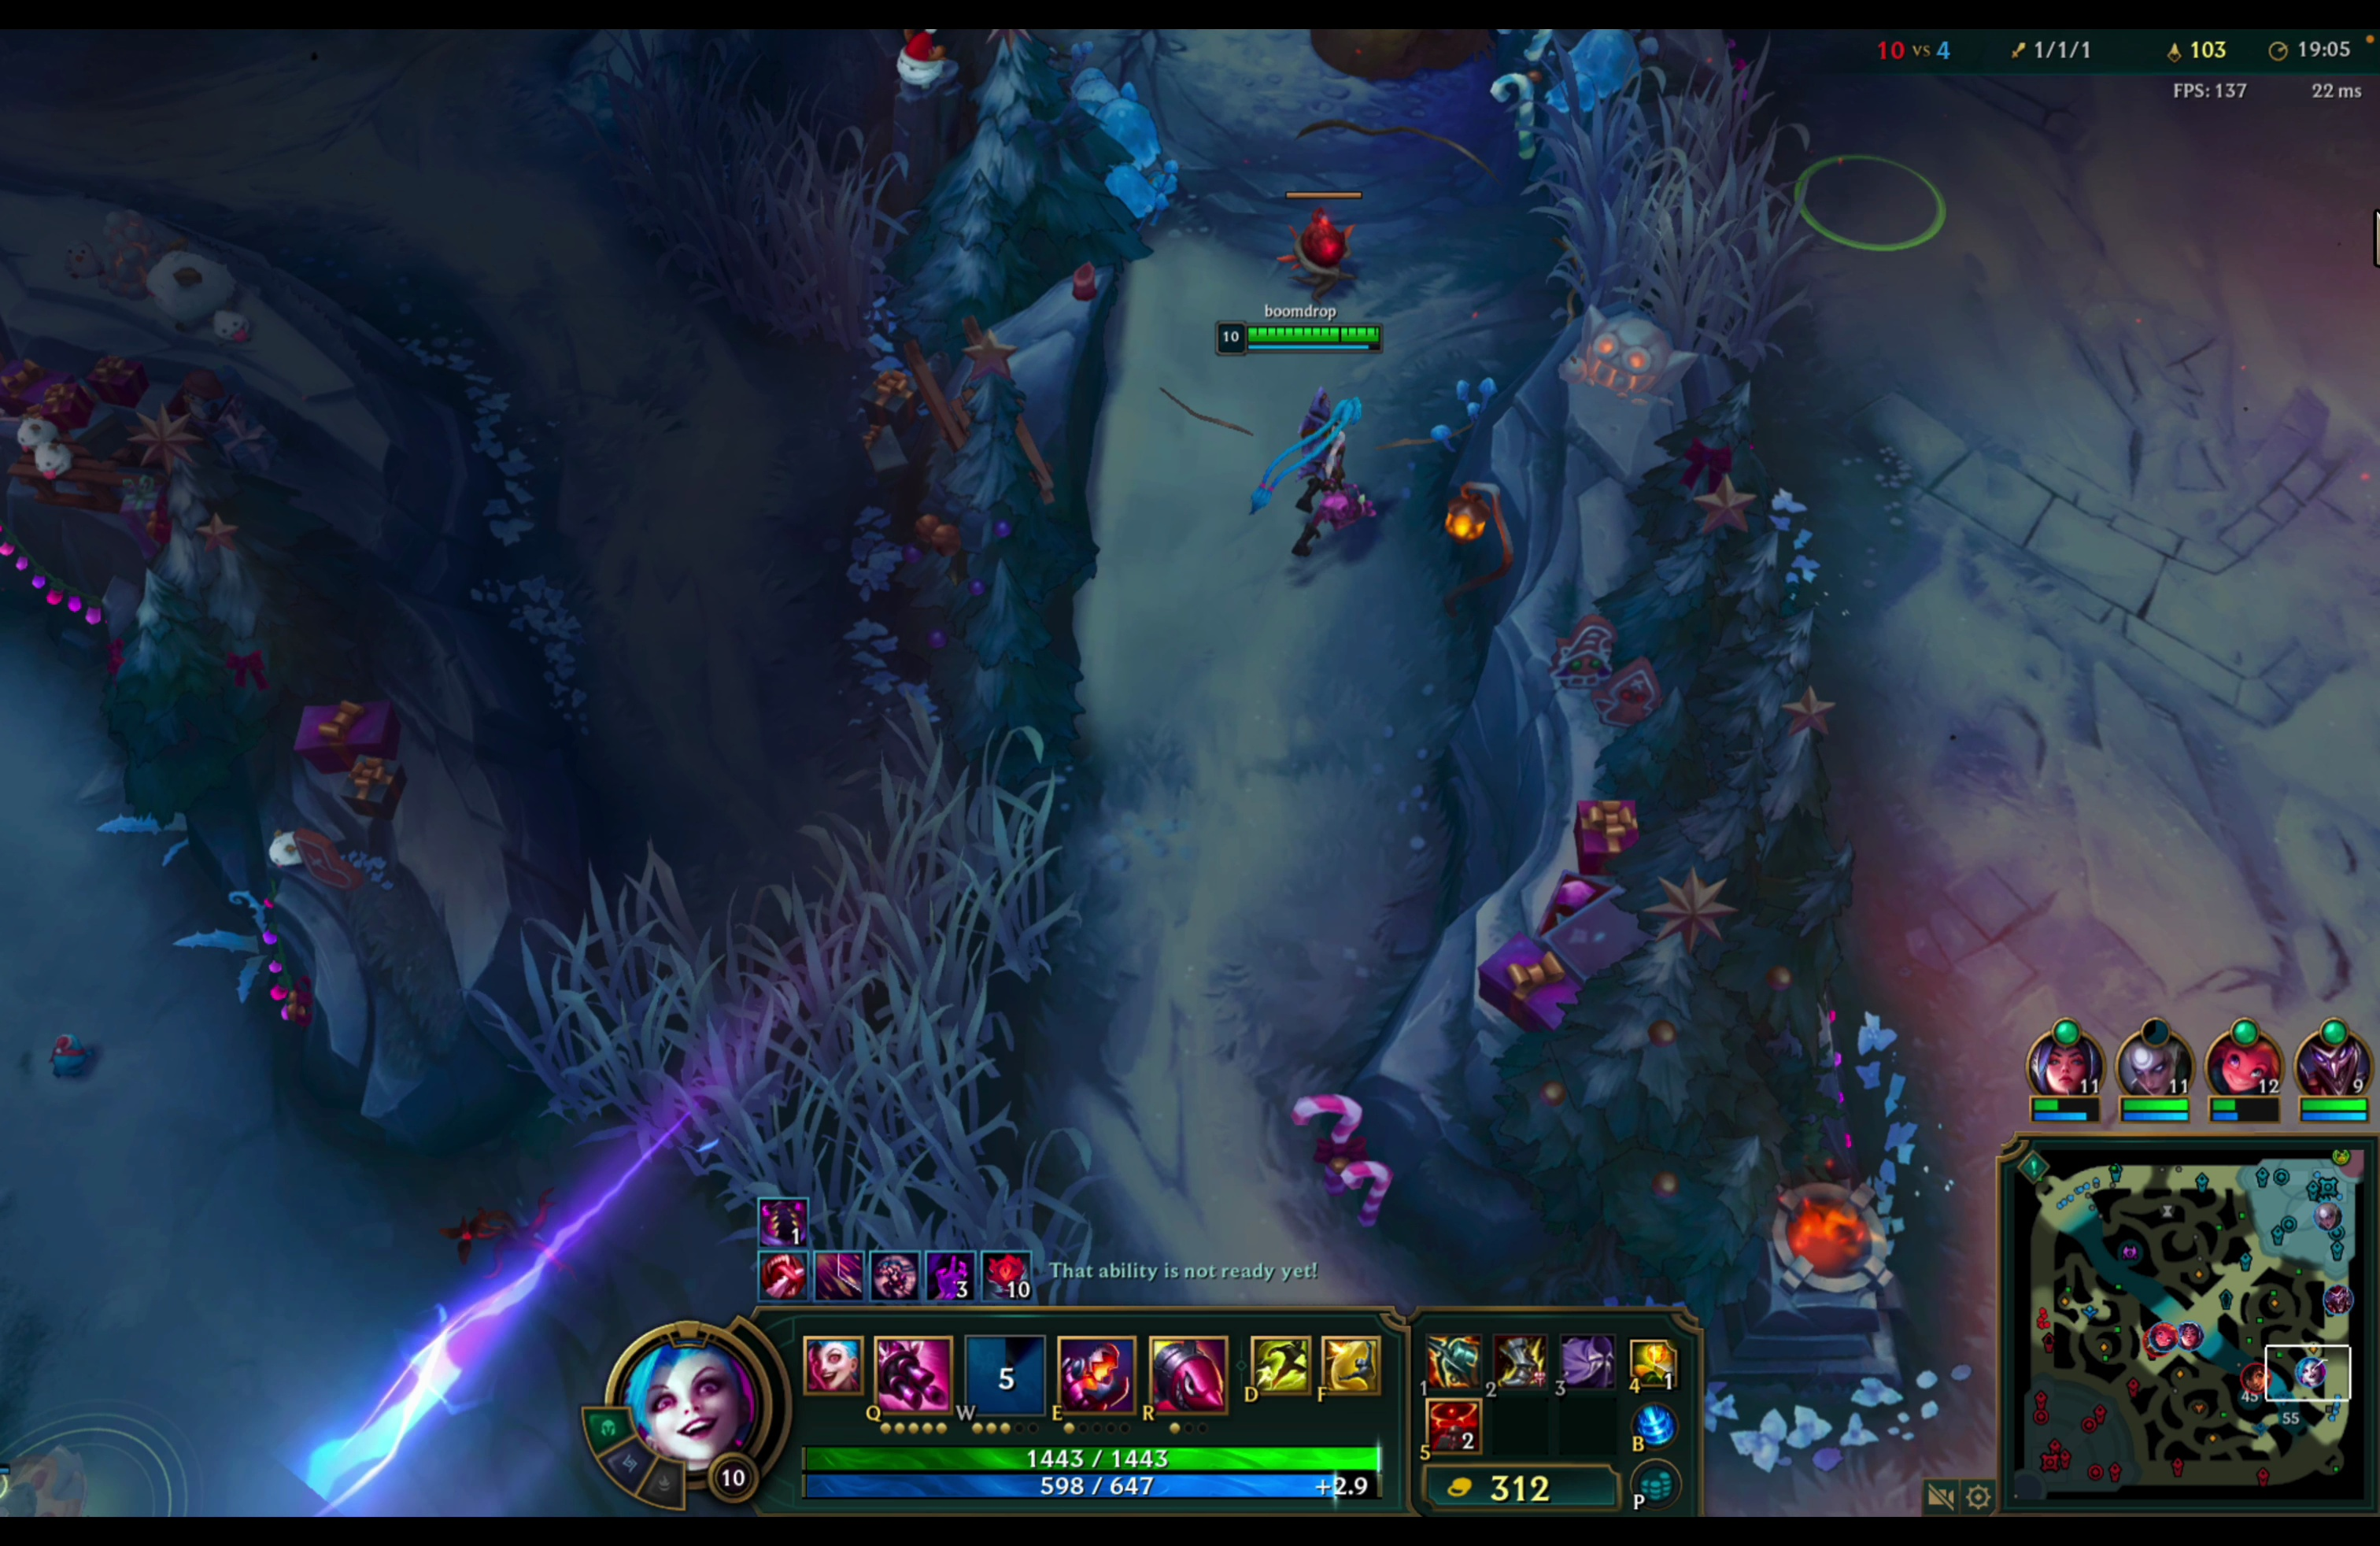JINX_W_PROJECTILE: (264, 1057, 751, 1515)
